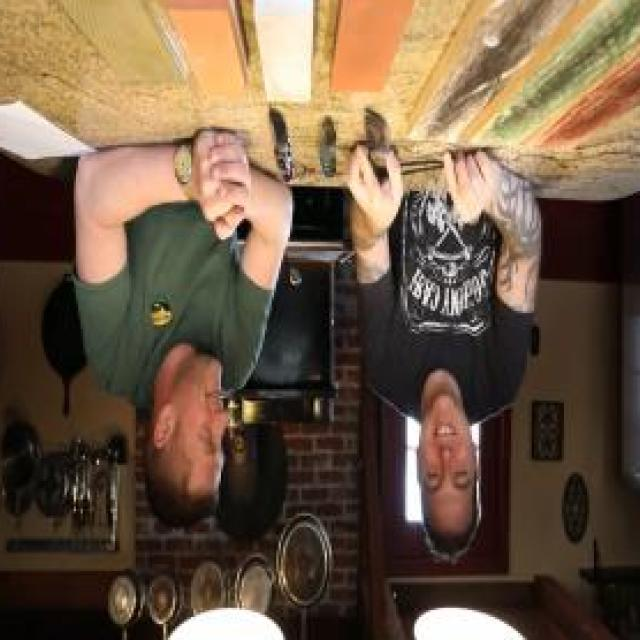knife: (344, 100, 405, 196)
